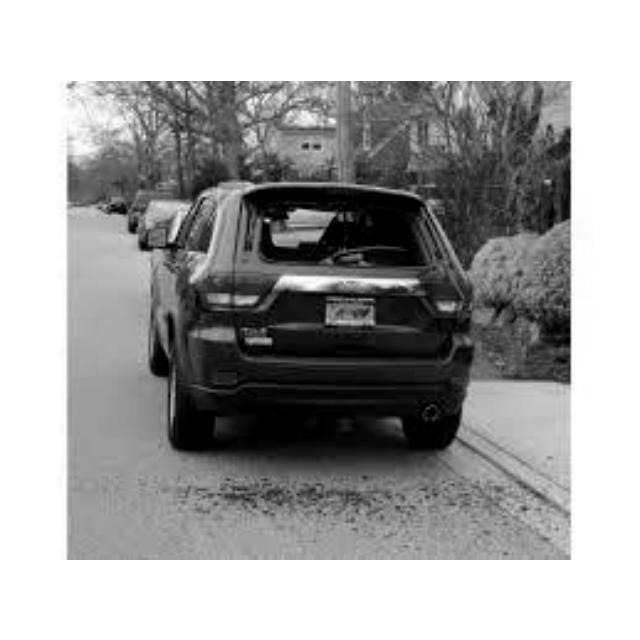Rear-windscreen-Damage: (235, 174, 427, 280)
